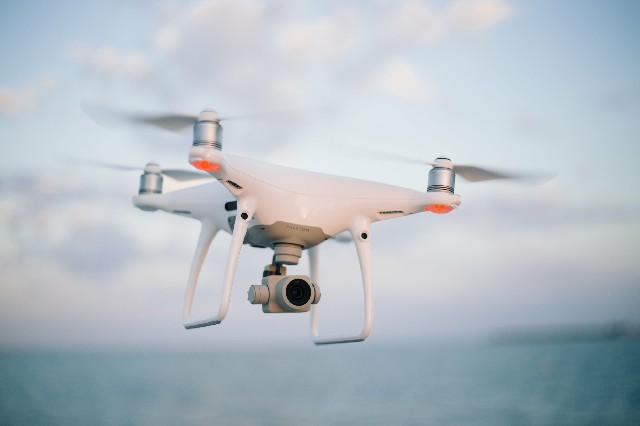maybay_khongnguoilai: (88, 94, 508, 349)
